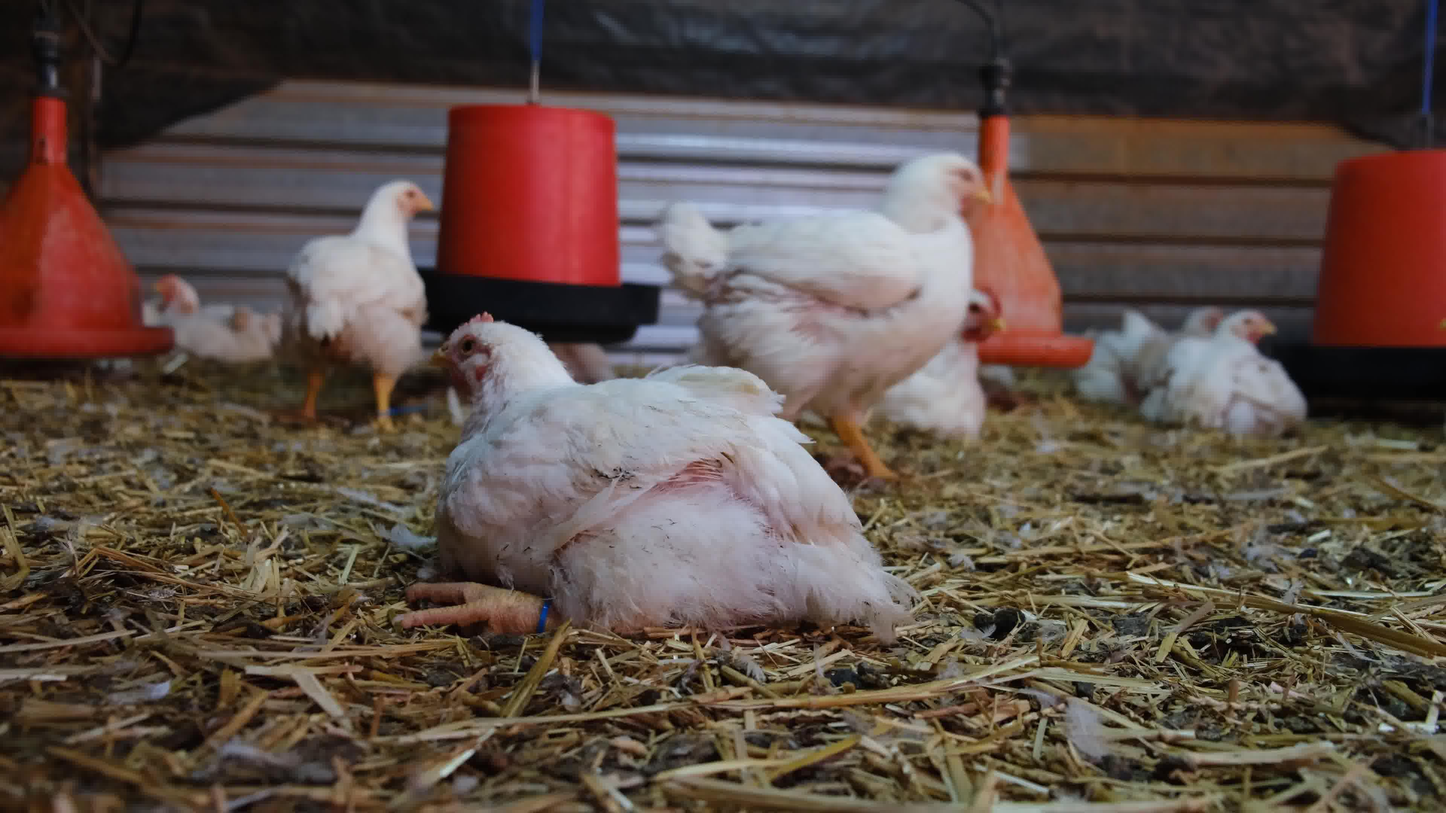AbNormal: (407, 315, 912, 638), (846, 286, 1013, 447), (1147, 309, 1313, 438), (1075, 300, 1237, 417), (142, 271, 296, 378)
Normal: (661, 151, 993, 497), (289, 181, 439, 431)
